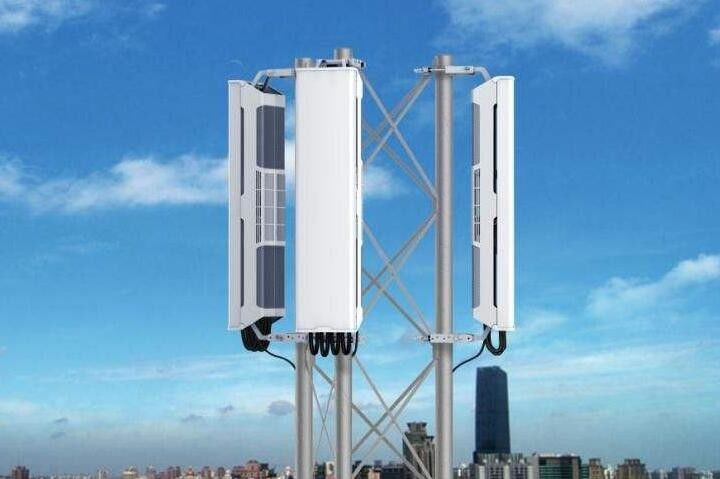sa: (285, 55, 373, 381), (215, 64, 291, 355), (460, 69, 520, 367)
